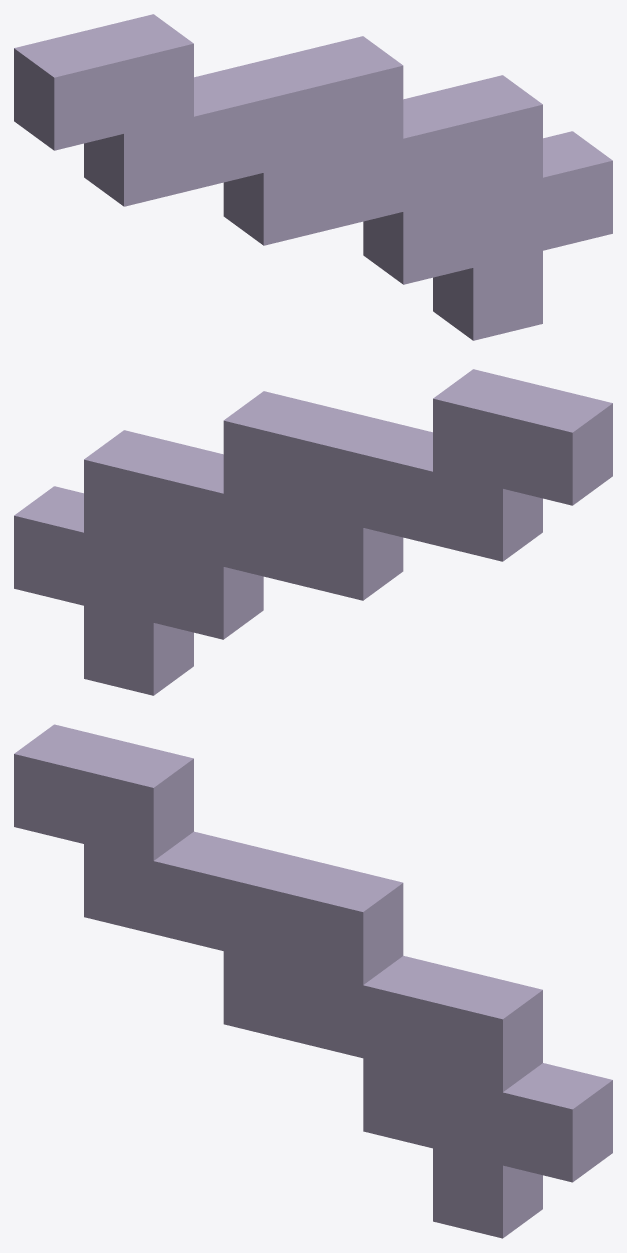
The model's file is Lightning-Large-Grey.vox.obj.
3 renders of one model, top to bottom at view 1: azimuth 30°, elevation 25°; view 2: azimuth 150°, elevation 25°; view 3: azimuth 330°, elevation 25°, orthographic.
Size of the model in its own units: 0.8 by 0.5 by 0.1.
Materials: 1 (1 with a texture image).
